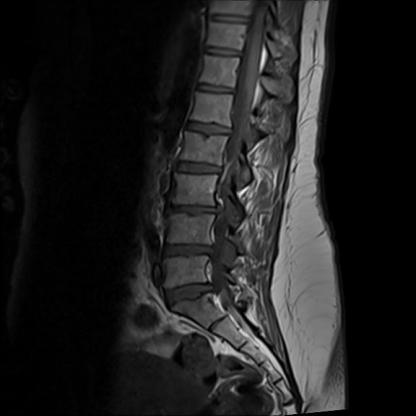Disc Bulgerotation: (162, 279, 227, 312), (160, 238, 223, 265), (165, 199, 223, 223)
